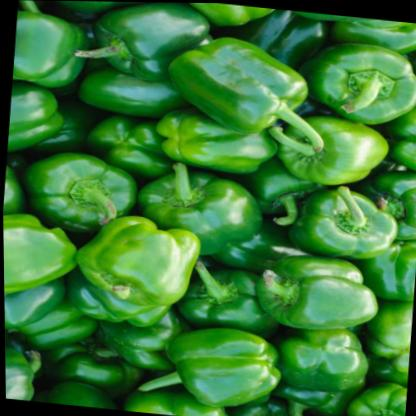bell_pepper: (152, 30, 333, 152), (126, 315, 287, 416), (122, 162, 268, 262), (63, 211, 213, 308), (19, 141, 140, 236), (241, 266, 384, 340), (261, 112, 391, 192), (288, 181, 405, 263)
